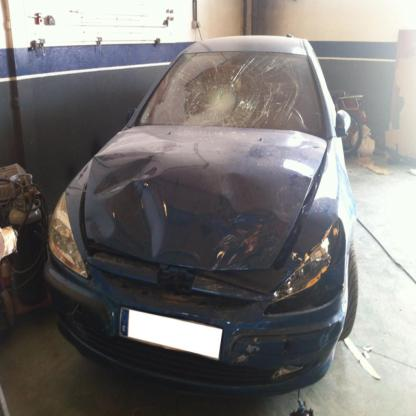front_bumper: (44, 257, 347, 399)
headlamp: (271, 217, 341, 301), (49, 192, 89, 280)
hood: (86, 127, 326, 272)
